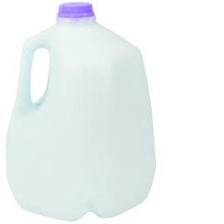bottle: (0, 0, 172, 221)
